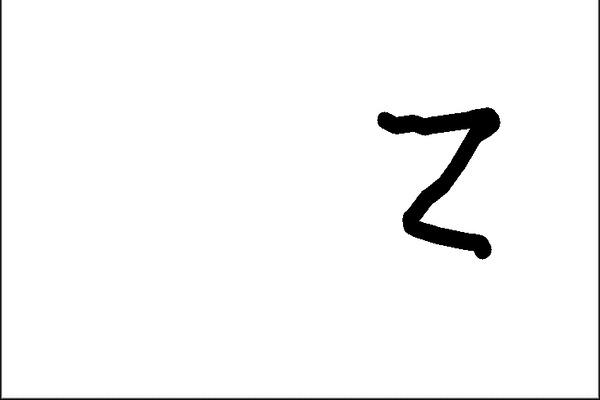Z: (371, 102, 504, 263)
